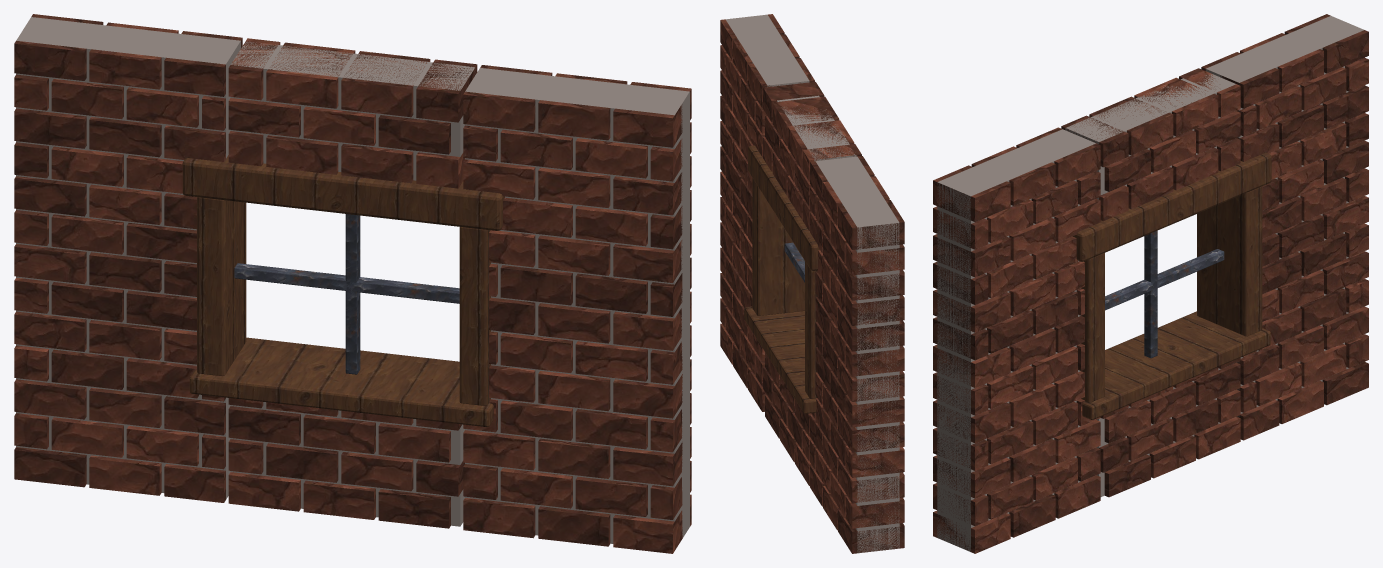
The model's file is window_diagonal__clay_brick.glb.
3 renders of one model, left to right at view 1: azimuth 30°, elevation 25°; view 2: azimuth 150°, elevation 25°; view 3: azimuth 270°, elevation 25°, orthographic. The views are drawn at different scales.
Parts seen in each view (by area): view 1: model; view 2: model; view 3: model.
Boxes of the visible parts, left/top/right/bottom form: model: left=14, top=14, right=691, bottom=553; model: left=720, top=14, right=904, bottom=553; model: left=933, top=14, right=1368, bottom=553.
Size of the model in its own units: 2.2 by 1.98 by 2.2.
7 materials, 6 textured.
